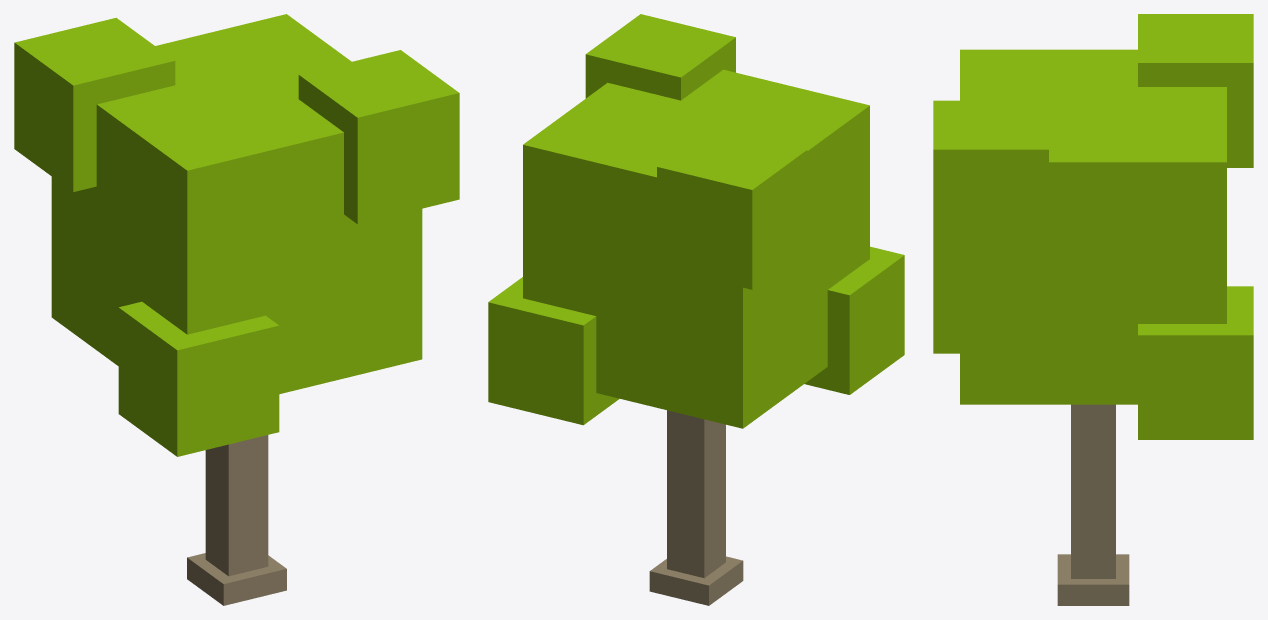
The model's file is tree_boxy_1.fbx.
3 renders of one model, left to right at view 1: azimuth 30°, elevation 25°; view 2: azimuth 150°, elevation 25°; view 3: azimuth 270°, elevation 25°, orthographic. The views are drawn at different scales.
Visible parts, largest first — view 1: tree_boxy_1; view 2: tree_boxy_1; view 3: tree_boxy_1.
Boxes of the visible parts, <box> form: tree_boxy_1: <box>14,14,459,605</box>; tree_boxy_1: <box>488,14,904,605</box>; tree_boxy_1: <box>933,14,1253,605</box>.
Size of the model in its own units: 111 by 194 by 111.
